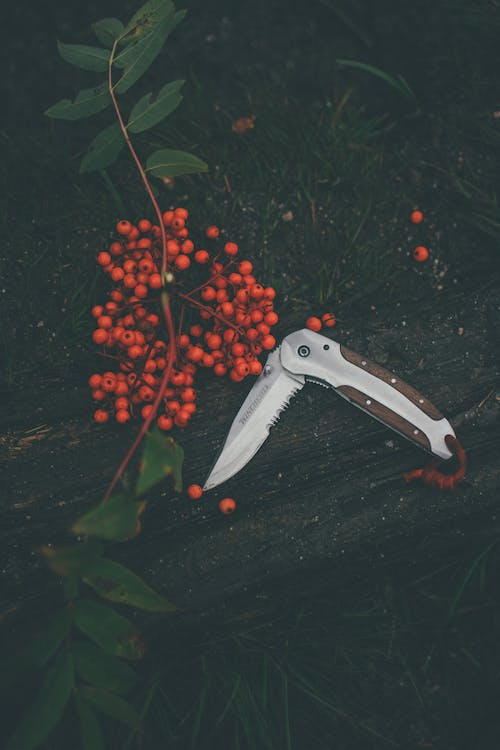knife: (197, 325, 461, 494)
